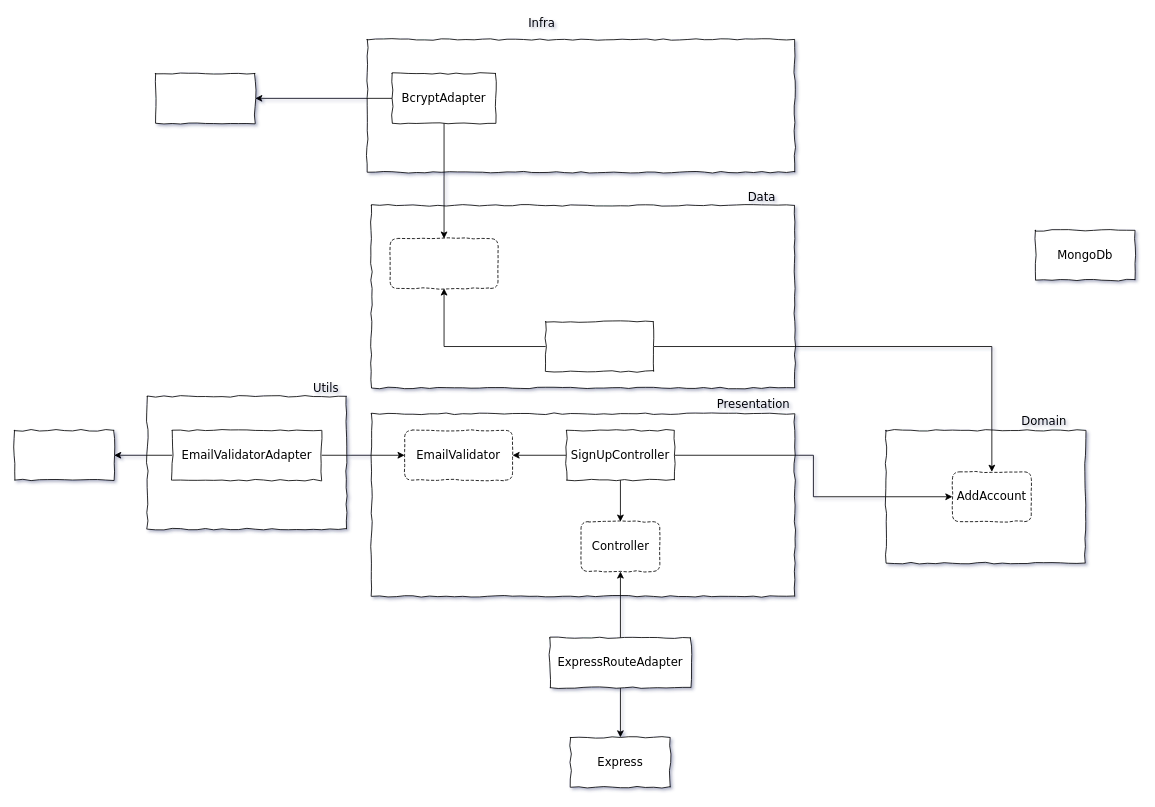
Some shapes in this 1155 by 807 pixel diagram are drawn without their labels. Each missing label, with the centre of its shape:
BCrypt: pixel 205 98
DbAddAccount: pixel 599 346
Encrypter: pixel 443 263
Validator: pixel 64 455
